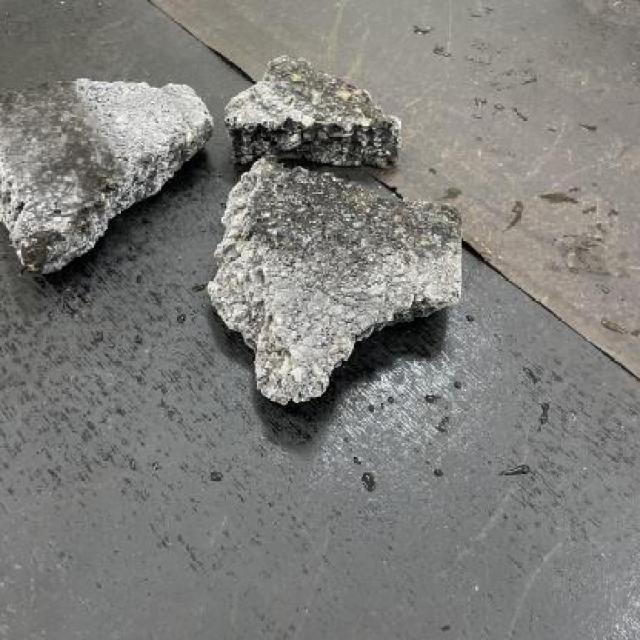Road Debris: (248, 167, 458, 258), (4, 82, 112, 248), (273, 55, 395, 132)
